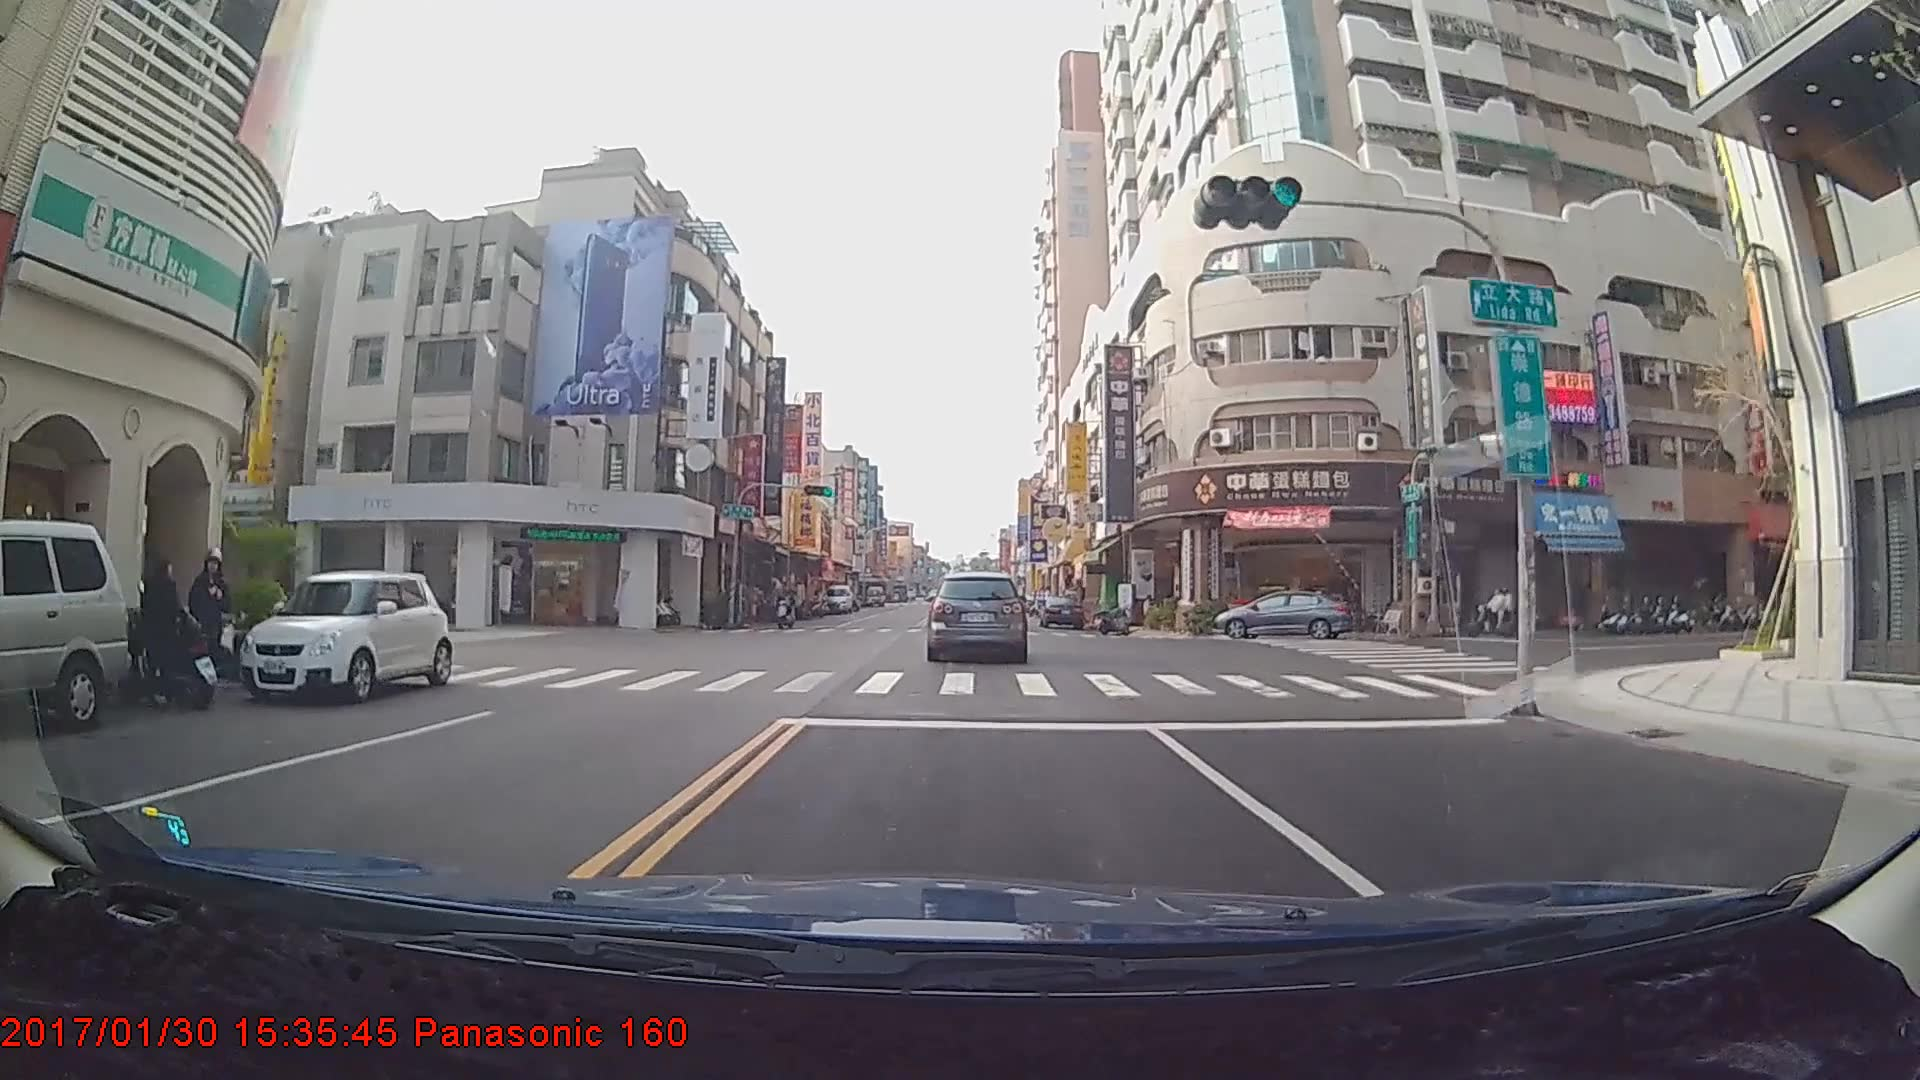pedestrian: (182, 543, 236, 697)
rider: (1463, 586, 1523, 637), (769, 584, 802, 632)
vehicle: (0, 519, 130, 735), (245, 571, 453, 703), (929, 572, 1027, 663), (1212, 586, 1356, 642), (1041, 593, 1086, 628), (822, 582, 853, 612)
